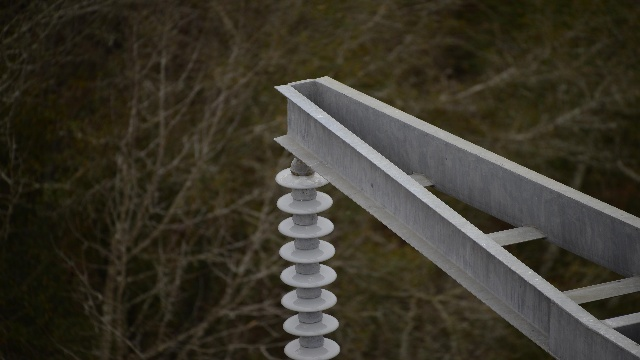insulator_unspecified: (273, 167, 343, 359)
pollution_flashover_local: (296, 174, 321, 187)
